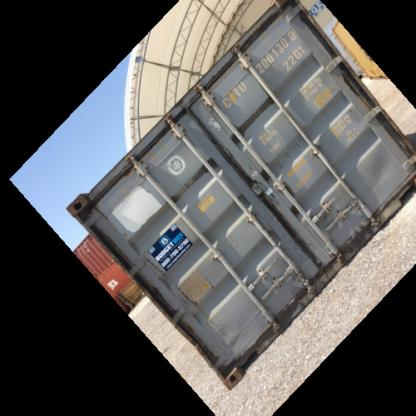Damage: (302, 12, 363, 100), (263, 196, 328, 278), (147, 255, 207, 312), (275, 131, 304, 170), (172, 174, 199, 204), (170, 106, 194, 137)
